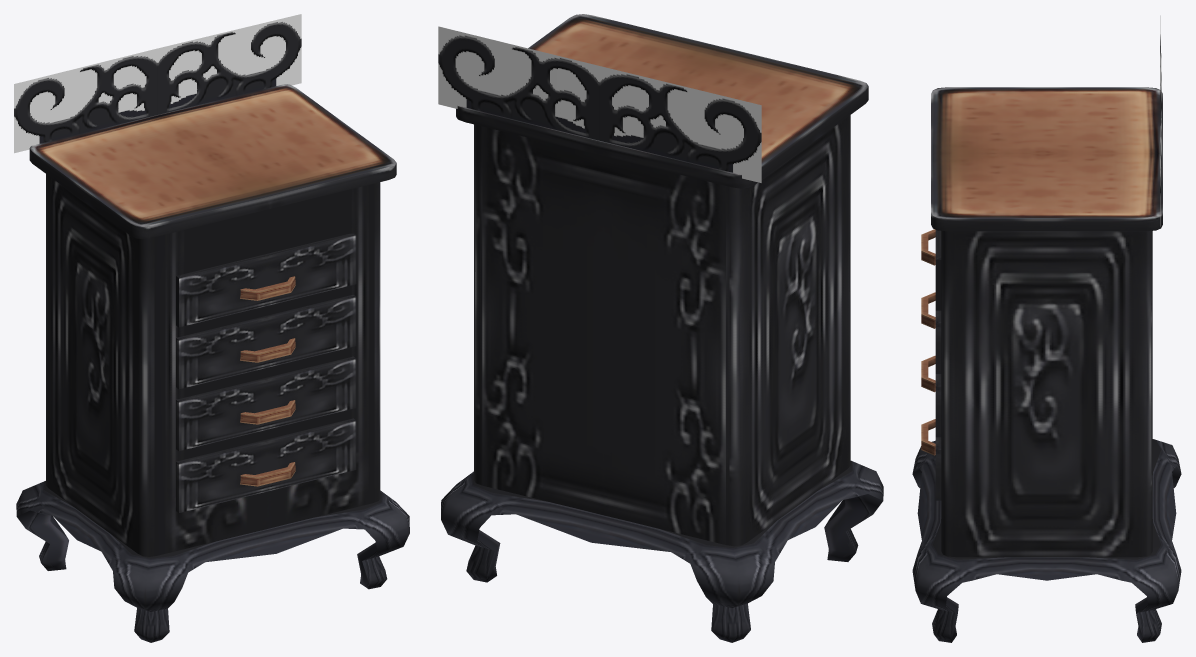
File: AntiqueChest_HD.fbx
The picture shows the model from 3 angles, left to right: view 1: azimuth 30°, elevation 25°; view 2: azimuth 150°, elevation 25°; view 3: azimuth 270°, elevation 25°; orthographic projection. The views are drawn at different scales.
Parts seen in each view (by area): view 1: AntiqueChest; view 2: AntiqueChest; view 3: AntiqueChest.
Part boxes in pixels (<box>): AntiqueChest: <box>14,14,409,642</box>; AntiqueChest: <box>438,14,883,642</box>; AntiqueChest: <box>912,15,1181,642</box>.
Size of the model in its own units: 0.724 by 1.14 by 0.5582.
